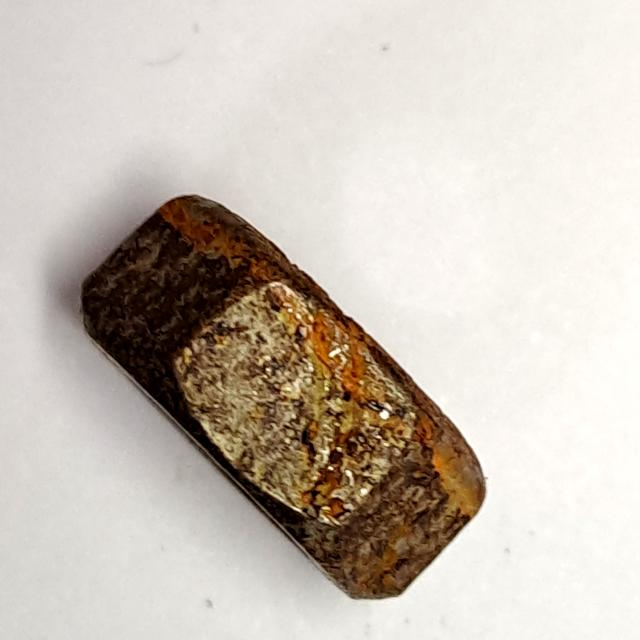Side_Rust: (66, 182, 506, 611)
